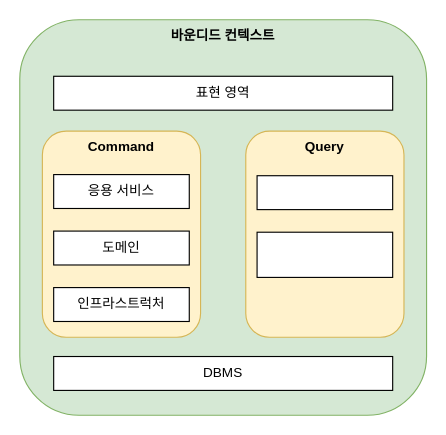
Some shapes in this 446 by 435 pixel diagram are drawn without their labels. The shapes that lost their labels are listed below. From the top down, each one's centre as x and y in pixels, then its label:
[324,192]: 서비스
[324,254]: DAO 조회 전용 데이터 모델
